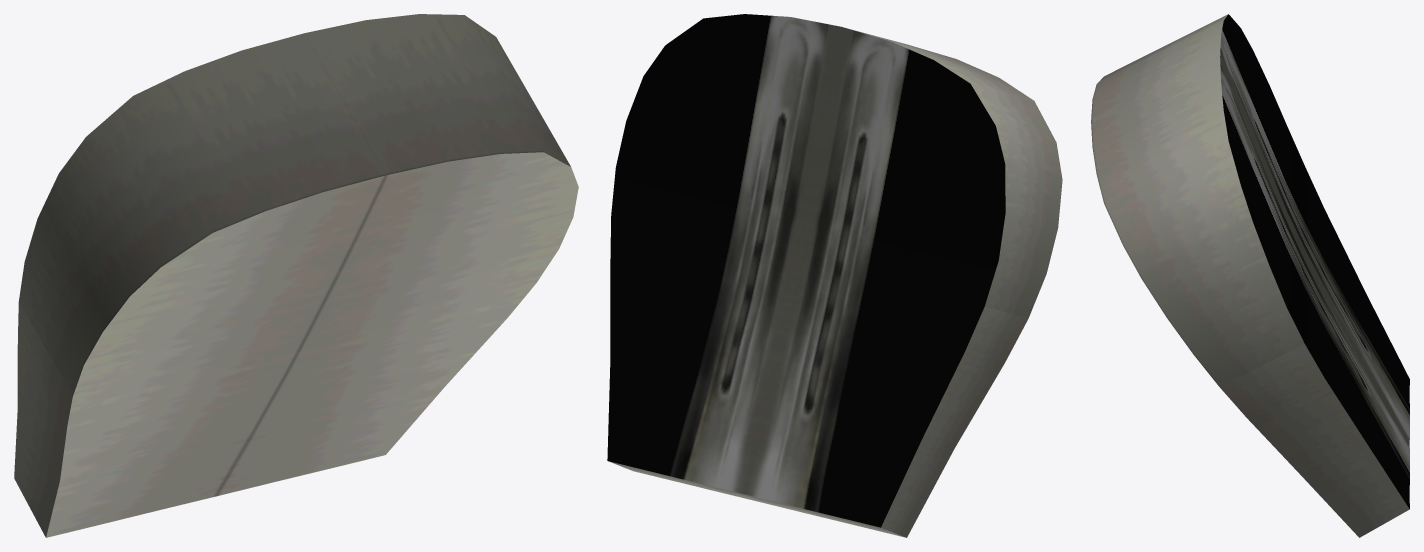
The model's file is trial.icn.obj.
3 views of the same model, side by side, from view 1: azimuth 30°, elevation 25°; view 2: azimuth 150°, elevation 25°; view 3: azimuth 270°, elevation 25° (orthographic). The views are drawn at different scales.
Bounding box in the file's own units: 4.46 × 4.73 × 3.29.
